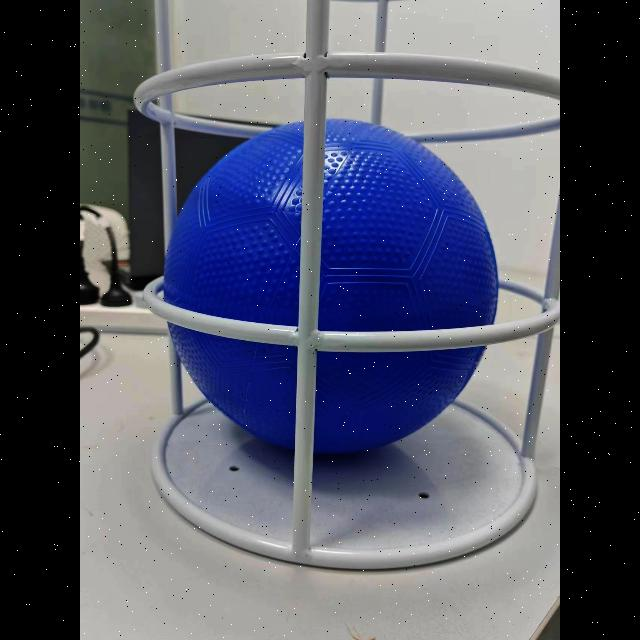B: (157, 110, 507, 462)
S: (125, 0, 560, 578)
